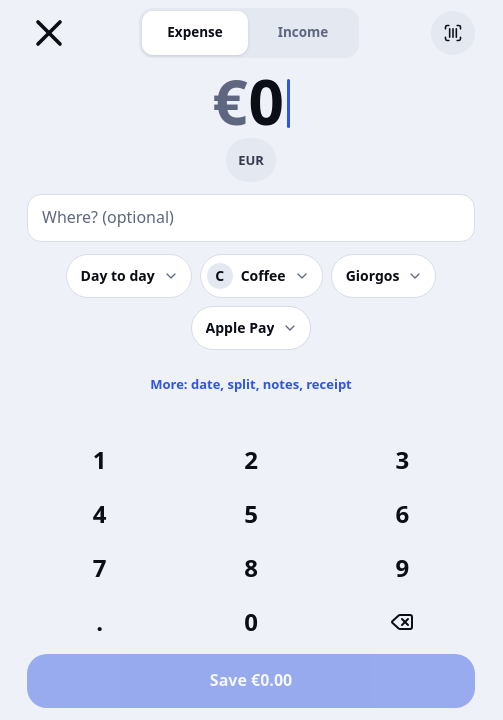
it: a 400 on save keeps the composer open with everything kept
Click the button "3".
click(402, 460)  # box [330,436,475,484]
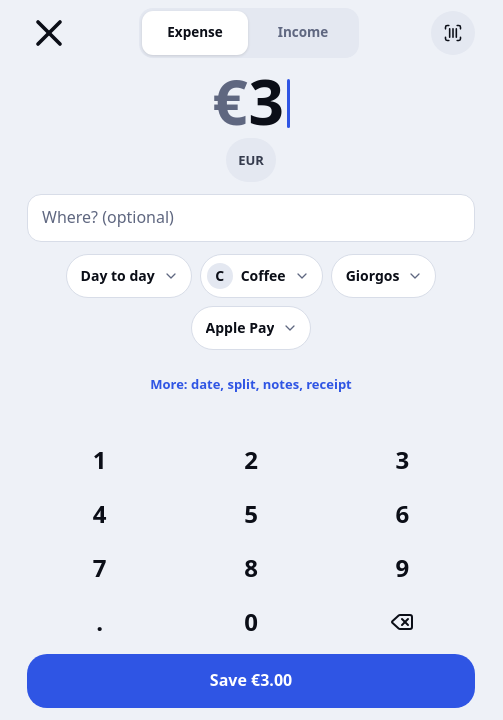
Click the button with aria-label "Save 3 euro".
click(251, 681)  # box [27,654,475,708]
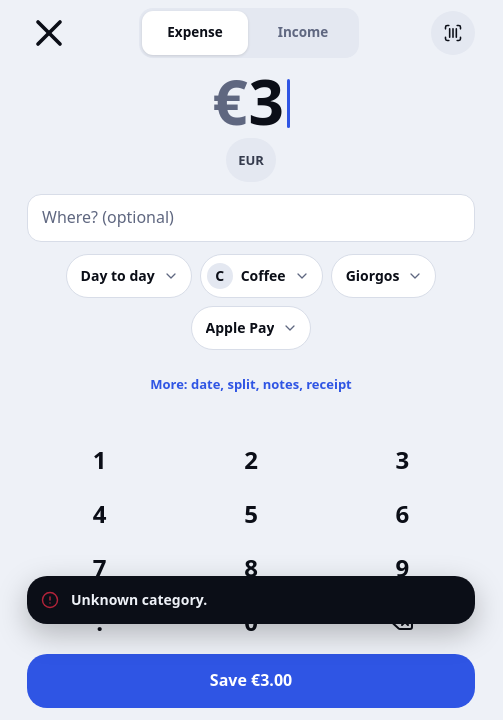
Now the text "Unknown category." is shown, box [71,590,207,609]
